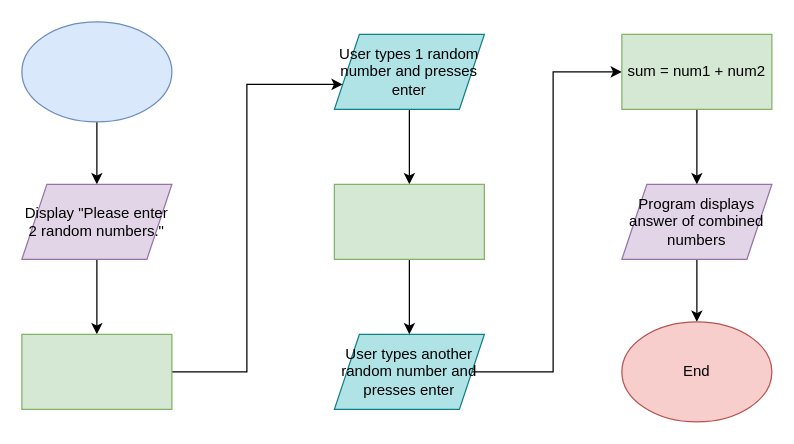
The diagram is 794 pixels wide and 444 high, and some of its shapes have lost their labels. Each missing label, with the centre of its shape:
"num1 = Convert.ToInt32" goes at point (96, 371).
"num2 = Convert.ToInt32" goes at point (408, 221).
"Start" goes at point (96, 71).
